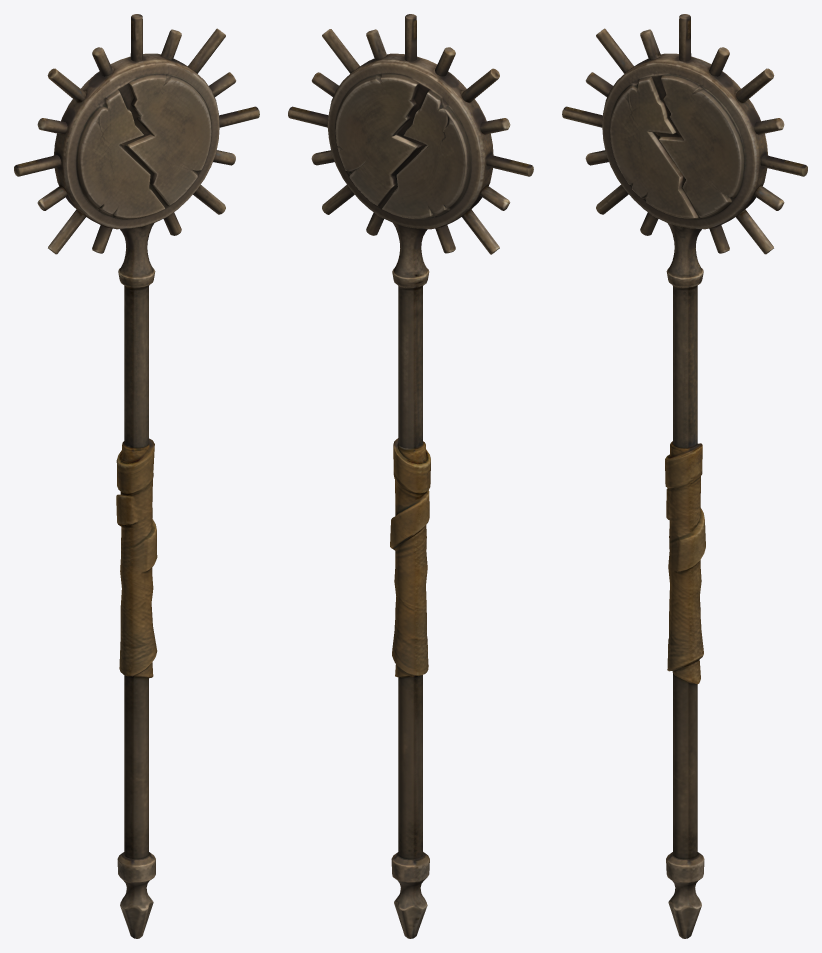
Rendered from sigillo_amareth.glb.
3 views of the same model, side by side, from view 1: azimuth 30°, elevation 25°; view 2: azimuth 150°, elevation 25°; view 3: azimuth 330°, elevation 25° (orthographic).
Visible parts, largest first — view 1: sigillo_amareth; view 2: sigillo_amareth; view 3: sigillo_amareth.
Part boxes in pixels (bbox=[...]): sigillo_amareth: bbox=[14, 14, 259, 938]; sigillo_amareth: bbox=[288, 14, 533, 938]; sigillo_amareth: bbox=[562, 14, 807, 938].
Bounding box in the file's own units: 0.1096 × 0.4 × 0.0158.
Materials: 1 (1 with a texture image).
